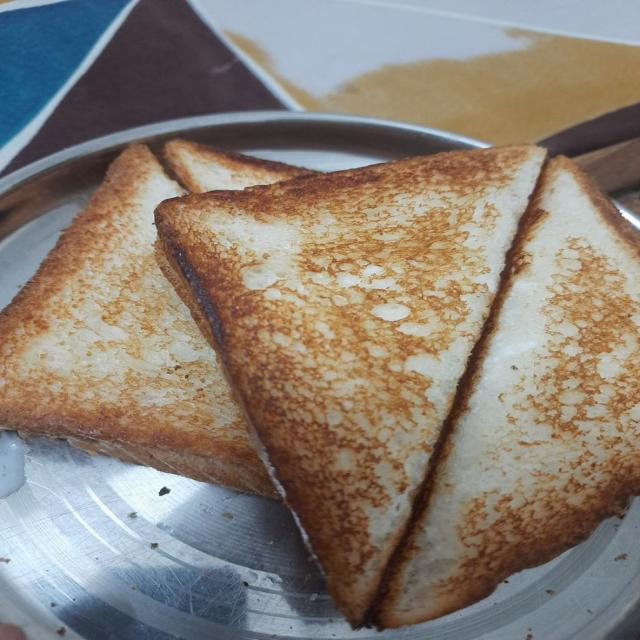toast bread: (156, 146, 544, 625), (373, 158, 639, 628), (0, 146, 275, 495), (163, 139, 314, 193)
